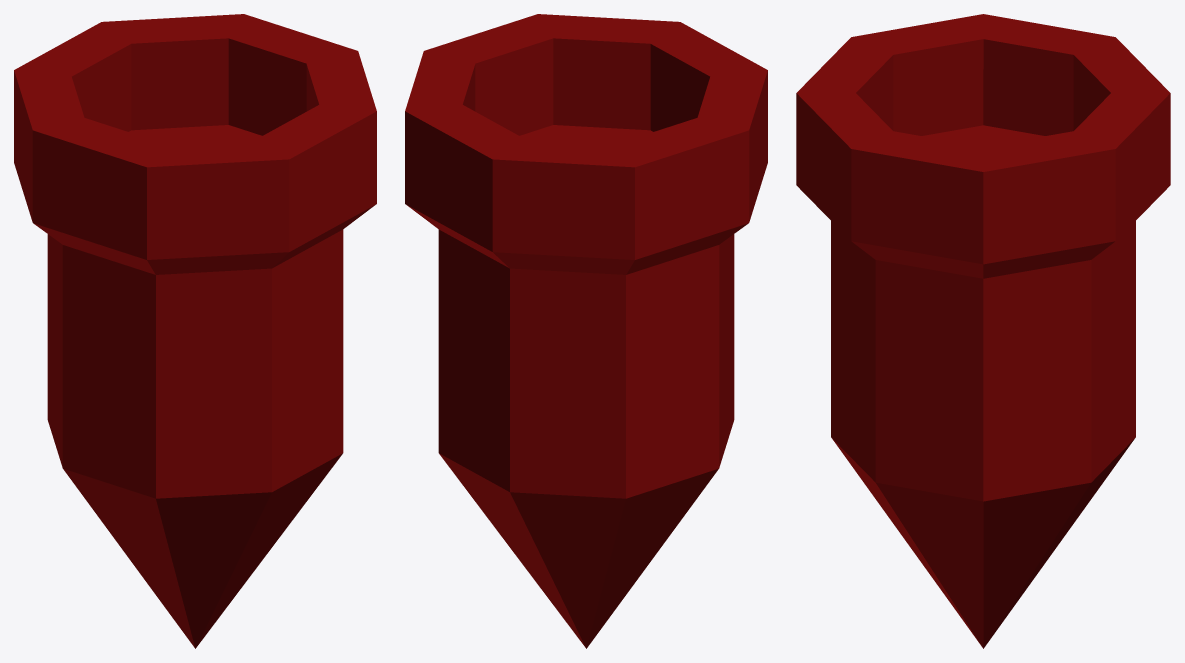
The model's file is red-rook.glb.
3 renders of one model, left to right at view 1: azimuth 30°, elevation 25°; view 2: azimuth 150°, elevation 25°; view 3: azimuth 270°, elevation 25°, orthographic.
Visible parts, largest first — view 1: Bishop; view 2: Bishop; view 3: Bishop.
Part boxes in pixels (box(x1,y1,x2,y2)): Bishop: box(14, 14, 376, 648); Bishop: box(405, 14, 767, 648); Bishop: box(796, 14, 1170, 648).
Bounding box in the file's own units: 0.1594 × 0.2614 × 0.1594.
